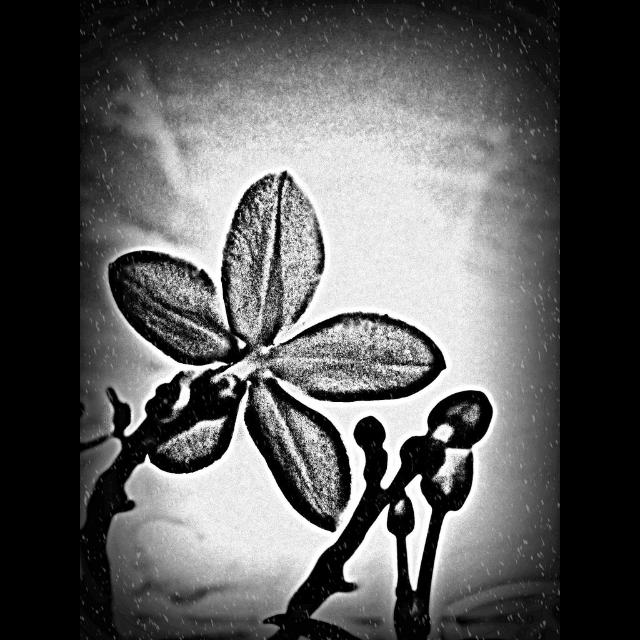Flower: (107, 169, 446, 533)
